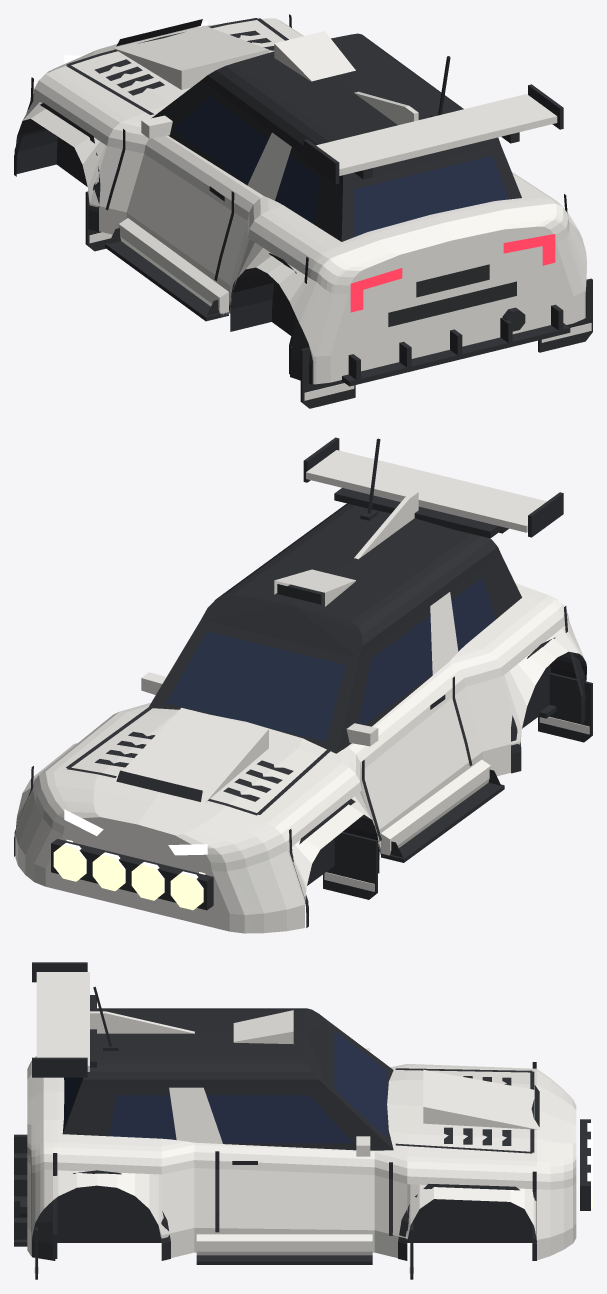
File: Requin.glb
3 renders of one model, top to bottom at view 1: azimuth 30°, elevation 25°; view 2: azimuth 150°, elevation 25°; view 3: azimuth 270°, elevation 25°, orthographic. The views are drawn at different scales.
Parts seen in each view (by area): view 1: BumperRear, Roof, Door_FL, Opt_Wing_Rally_WingBlade, RearWindow, Fender_FL, Fender_RL, Pillars, Hood, Opt_Hood_Scoop_HoodScoop, Window_FL, Underbody (+24 smaller); view 2: BumperFront, Roof, Windshield, Fender_RL, Door_FL, Hood, Pillars, Opt_Hood_Scoop_HoodScoop, Opt_Wing_Rally_WingBlade, Fender_FL, Opt_Mudflaps_Long_AccMudflapsLong, Window_FL (+19 smaller); view 3: Roof, Door_FR, Fender_RR, WheelWell, Pillars, Fender_FR, Hood, BumperFront, Window_FR, Opt_Hood_Scoop_HoodScoop, Opt_Wing_Rally_WingBlade, Opt_Skirts_Side_AccSkirt_R (+16 smaller).
Part boxes in pixels (bbox=[...]): BumperRear: bbox=[293, 199, 586, 384]; Roof: bbox=[201, 33, 500, 184]; Door_FL: bbox=[105, 124, 251, 283]; Opt_Wing_Rally_WingBlade: bbox=[316, 94, 557, 175]; RearWindow: bbox=[354, 155, 508, 236]; Fender_FL: bbox=[16, 70, 141, 232]; Fender_RL: bbox=[218, 188, 330, 313]; Pillars: bbox=[151, 80, 521, 241]; Hood: bbox=[54, 18, 295, 121]; Opt_Hood_Scoop_HoodScoop: bbox=[113, 25, 268, 89]; Window_FL: bbox=[173, 96, 268, 184]; Underbody: bbox=[16, 119, 274, 331]; BumperFront: bbox=[15, 771, 304, 933]; Roof: bbox=[201, 503, 500, 657]; Windshield: bbox=[166, 631, 345, 741]; Fender_RL: bbox=[437, 599, 581, 776]; Door_FL: bbox=[341, 672, 470, 859]; Hood: bbox=[54, 707, 341, 823]; Pillars: bbox=[149, 554, 521, 753]; Opt_Hood_Scoop_HoodScoop: bbox=[113, 707, 268, 803]; Opt_Wing_Rally_WingBlade: bbox=[306, 450, 546, 532]; Fender_FL: bbox=[267, 755, 379, 903]; Opt_Mudflaps_Long_AccMudflapsLong: bbox=[323, 673, 592, 899]; Window_FL: bbox=[359, 615, 432, 724]; Roof: bbox=[80, 1008, 327, 1087]; Door_FR: bbox=[215, 1143, 393, 1256]; Fender_RR: bbox=[53, 1141, 214, 1257]; WheelWell: bbox=[32, 1185, 536, 1242]; Pillars: bbox=[62, 1021, 393, 1150]; Fender_FR: bbox=[393, 1153, 536, 1257]; Hood: bbox=[393, 1065, 536, 1161]; BumperFront: bbox=[537, 1069, 576, 1260]; Window_FR: bbox=[206, 1095, 353, 1143]; Opt_Hood_Scoop_HoodScoop: bbox=[423, 1069, 539, 1129]; Opt_Wing_Rally_WingBlade: bbox=[36, 972, 89, 1071]; Opt_Skirts_Side_AccSkirt_R: bbox=[196, 1234, 372, 1255].
Bounding box in the file's own units: 6.5 × 5.93 × 12.5.
